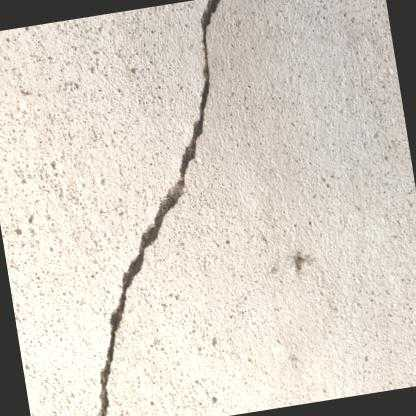crack: (97, 0, 220, 416)
